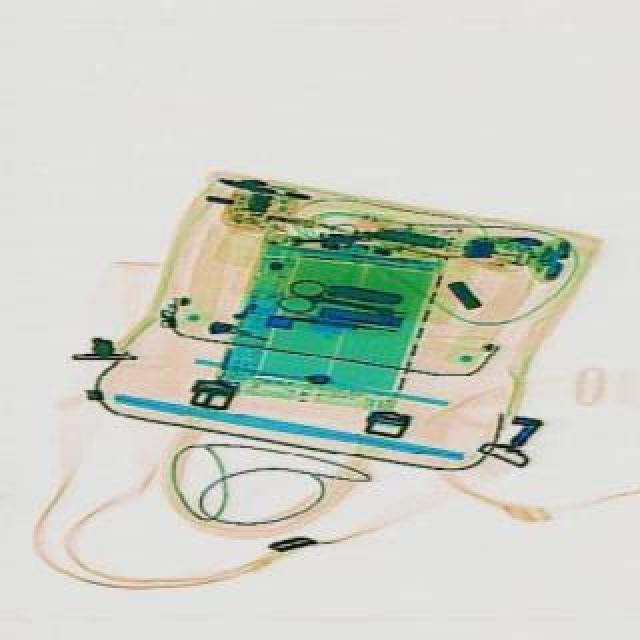pliers: (274, 274, 402, 330)
